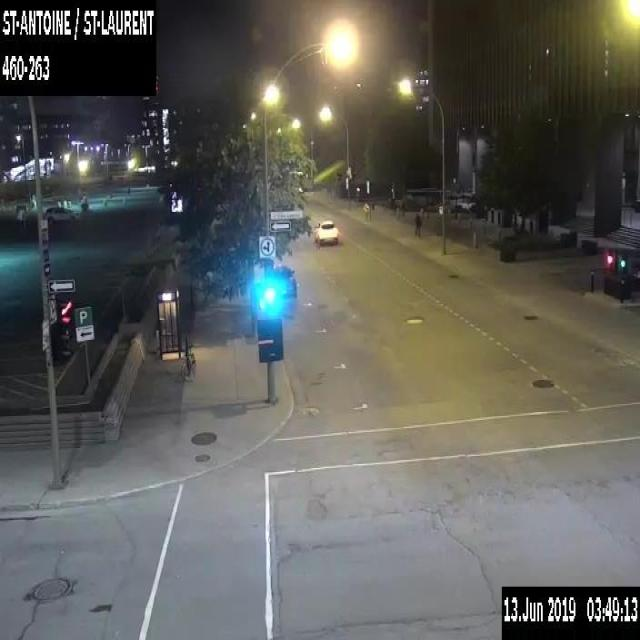pedestrian: (414, 210, 421, 236), (362, 200, 369, 220)
vehicle: (274, 264, 296, 299), (44, 205, 79, 225), (313, 219, 339, 244)
